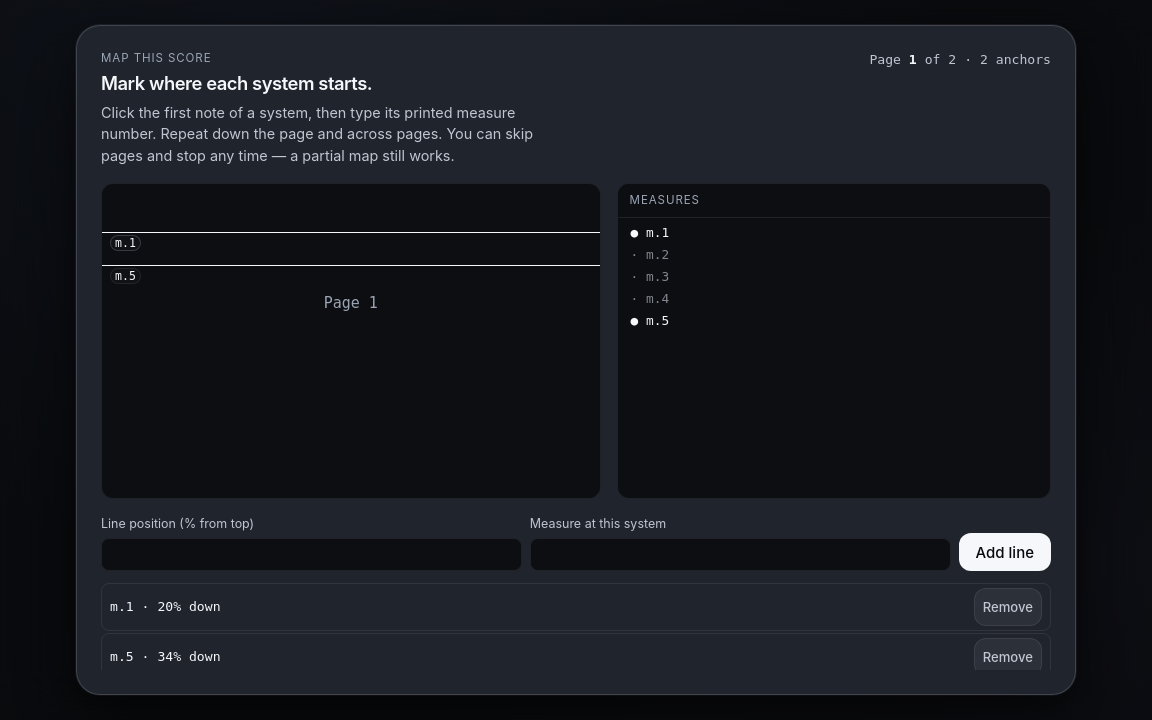
it: MapScoreWizard › pre-fills the exact measure from existing anchors and tags it 'from anchors'
Type "34" into the number field named "Line position percent from top". click: (311, 555)
box: [101,538,522,571]
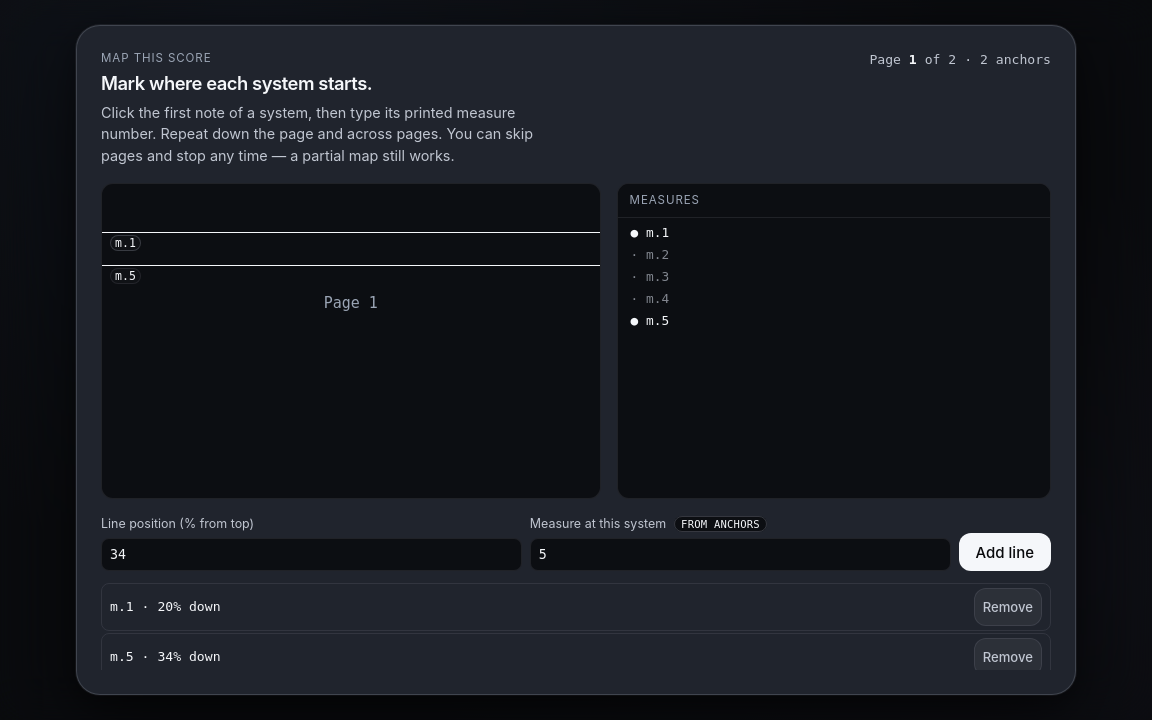
Check: the number field named "Measure number at this system start" holds "5"
Check: the text "from anchors" is shown, box [674,516,767,532]
# Typing over a suggestion clears the provenance tag (it becomes a correction).
Replace the text in the number field named "Measure number at this system start" with "6". click: (740, 555)
box: [530,538,951,571]
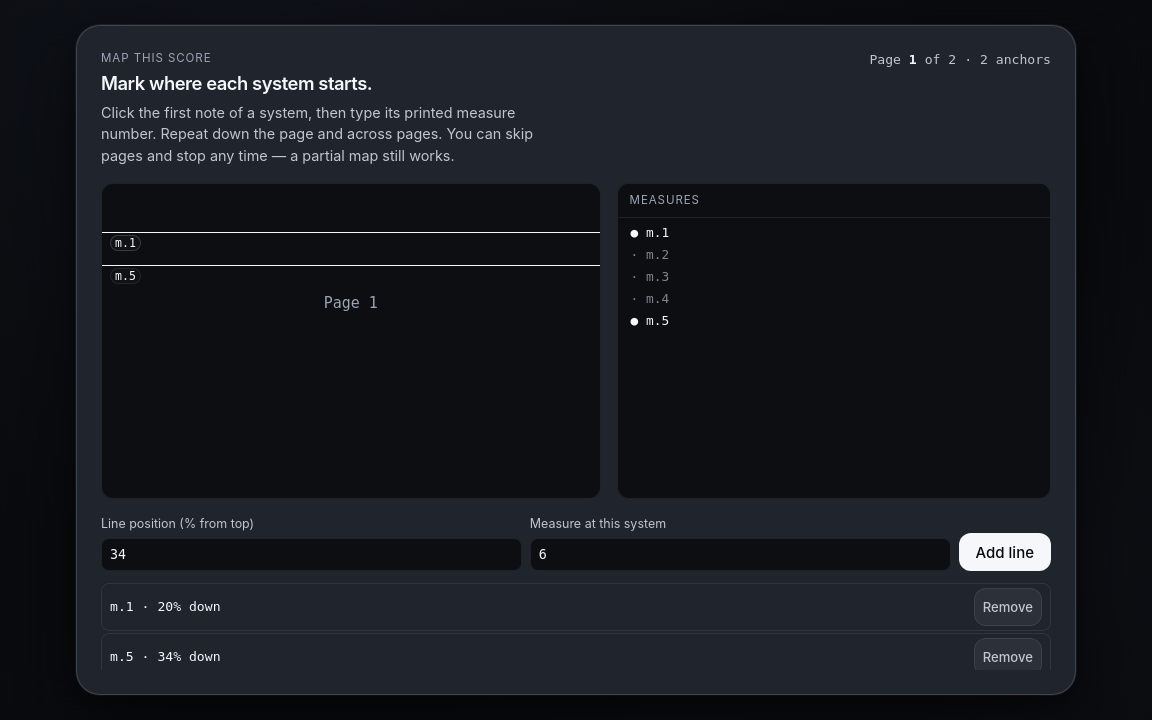
Check: the text "from anchors" is gone
